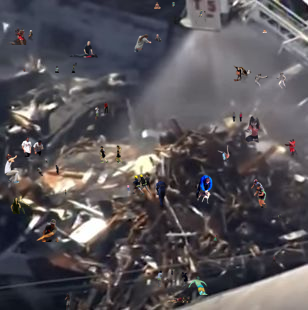Human: (255, 72, 287, 89), (173, 8, 207, 24), (244, 116, 264, 143), (233, 65, 253, 92), (36, 219, 59, 242), (157, 270, 188, 287), (195, 175, 213, 204), (2, 196, 30, 214), (134, 34, 162, 52), (7, 27, 35, 45), (99, 145, 124, 165), (250, 179, 267, 208), (69, 41, 98, 58), (21, 136, 44, 157), (4, 154, 20, 184), (131, 174, 152, 196), (155, 179, 167, 214), (188, 276, 210, 295), (284, 139, 298, 164), (216, 145, 232, 162), (35, 165, 59, 176), (55, 62, 77, 73), (104, 99, 119, 114), (167, 296, 191, 303), (64, 293, 71, 310), (232, 112, 243, 122), (95, 105, 100, 120), (271, 255, 277, 266), (154, 2, 161, 9), (63, 189, 68, 196), (213, 235, 218, 241), (127, 185, 130, 192), (278, 214, 282, 219), (23, 68, 28, 72), (262, 29, 267, 33), (172, 1, 175, 7), (45, 158, 48, 164), (106, 271, 109, 277)
